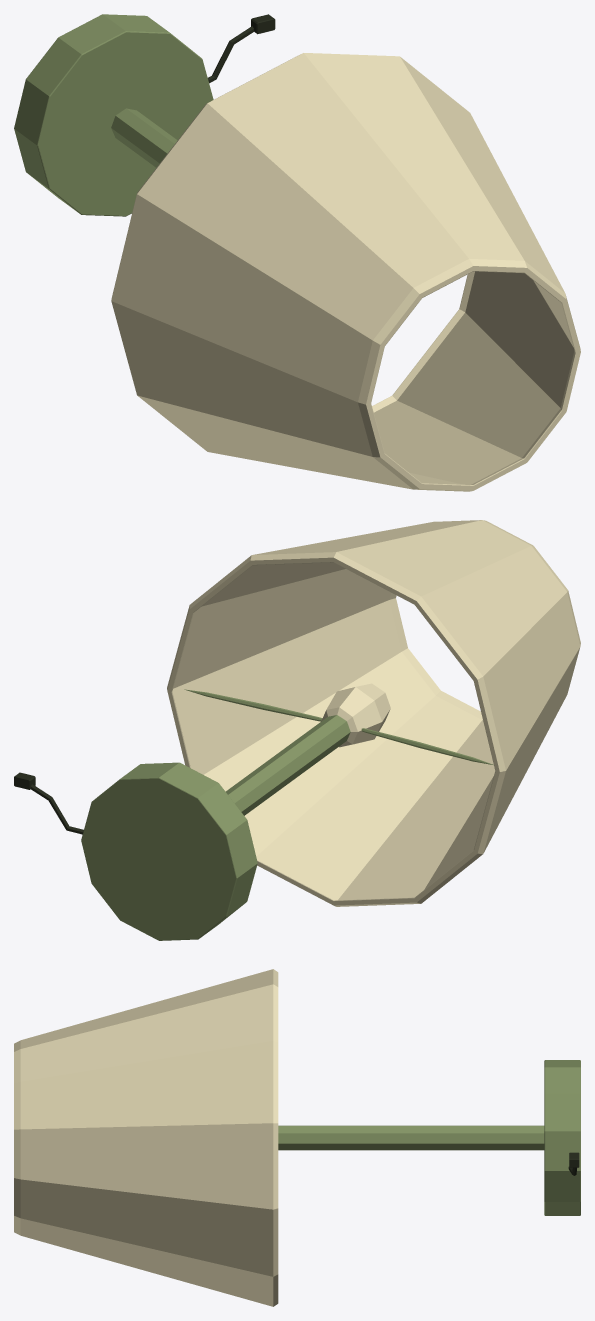
Rendered from table_lamp.glb.
The picture shows the model from 3 angles, top to bottom: view 1: azimuth 30°, elevation 25°; view 2: azimuth 150°, elevation 25°; view 3: azimuth 270°, elevation 25°; orthographic projection. The views are drawn at different scales.
Visible parts, largest first — view 1: table_lamp; view 2: table_lamp; view 3: table_lamp.
Boxes of the visible parts, left/top/right/bottom form: table_lamp: left=14, top=14, right=580, bottom=491; table_lamp: left=14, top=520, right=580, bottom=940; table_lamp: left=14, top=969, right=580, bottom=1306.
Size of the model in its own units: 0.204 by 0.204 by 0.341.
